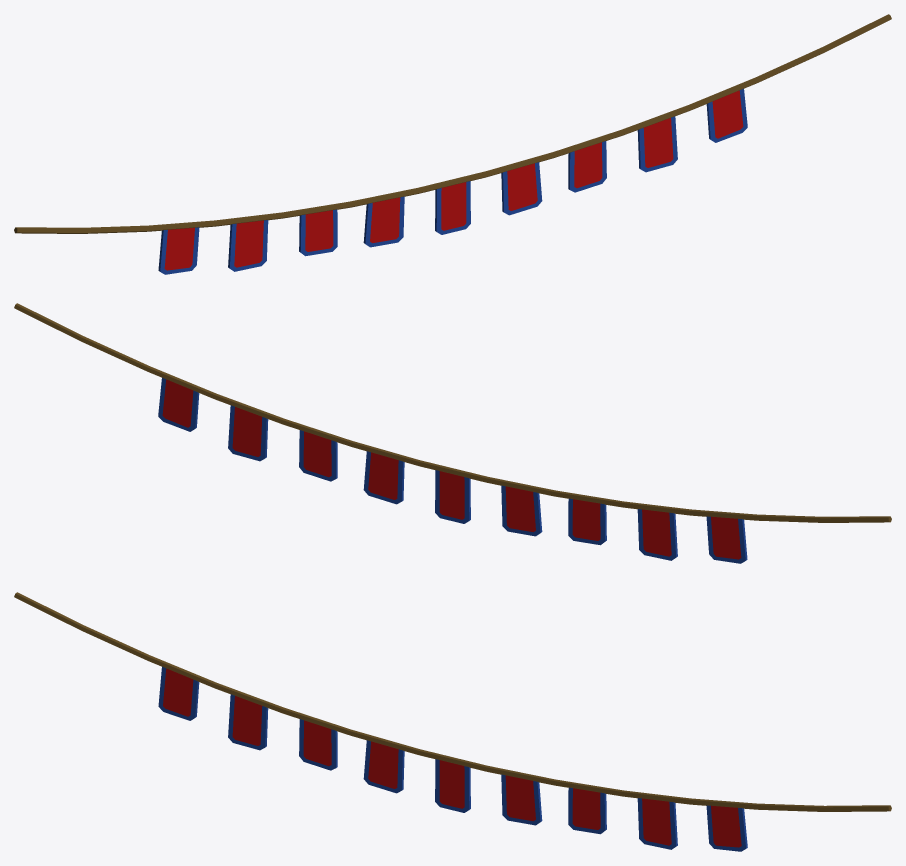
File: SM_flags.fbx
3 renders of one model, top to bottom at view 1: azimuth 30°, elevation 25°; view 2: azimuth 150°, elevation 25°; view 3: azimuth 330°, elevation 25°, orthographic.
Visible parts, largest first — view 1: Line002; view 2: Line002; view 3: Line002.
Boxes of the visible parts, <box> form: Line002: <box>14,14,891,274</box>; Line002: <box>14,303,891,563</box>; Line002: <box>14,592,891,851</box>.
Size of the model in its own units: 460 by 55.34 by 2.84.
